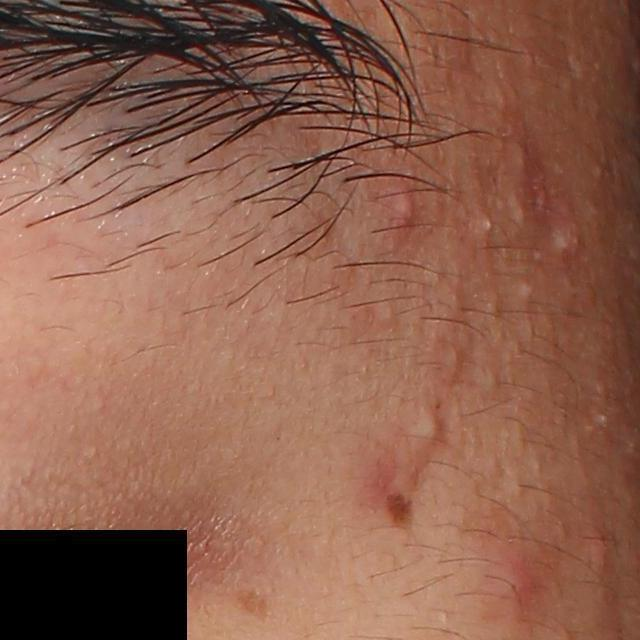comedo: (417, 409, 446, 441), (512, 198, 532, 226), (482, 369, 500, 392), (483, 217, 495, 232)
melasma: (235, 586, 277, 625)
nevus: (378, 485, 418, 539)
papule: (490, 551, 536, 604), (584, 522, 616, 579), (391, 180, 423, 226)
